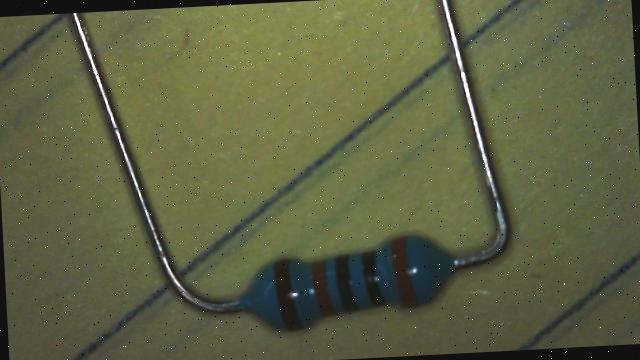black: (335, 254, 358, 311), (362, 250, 385, 306)
brown: (274, 257, 302, 330)
orange: (390, 235, 418, 306), (312, 259, 334, 316)
resistor: (231, 220, 458, 342)
